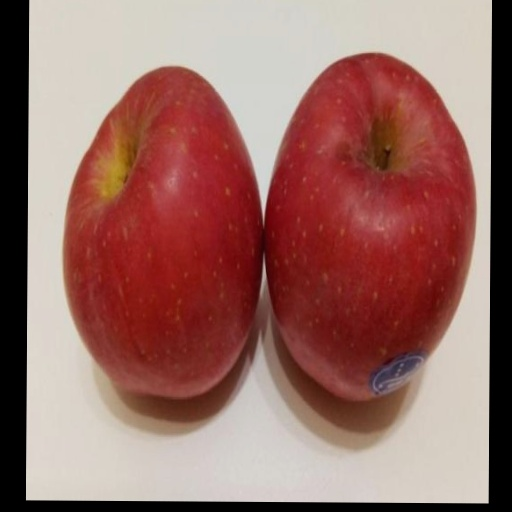fruit: (264, 54, 474, 399), (64, 68, 261, 397)
